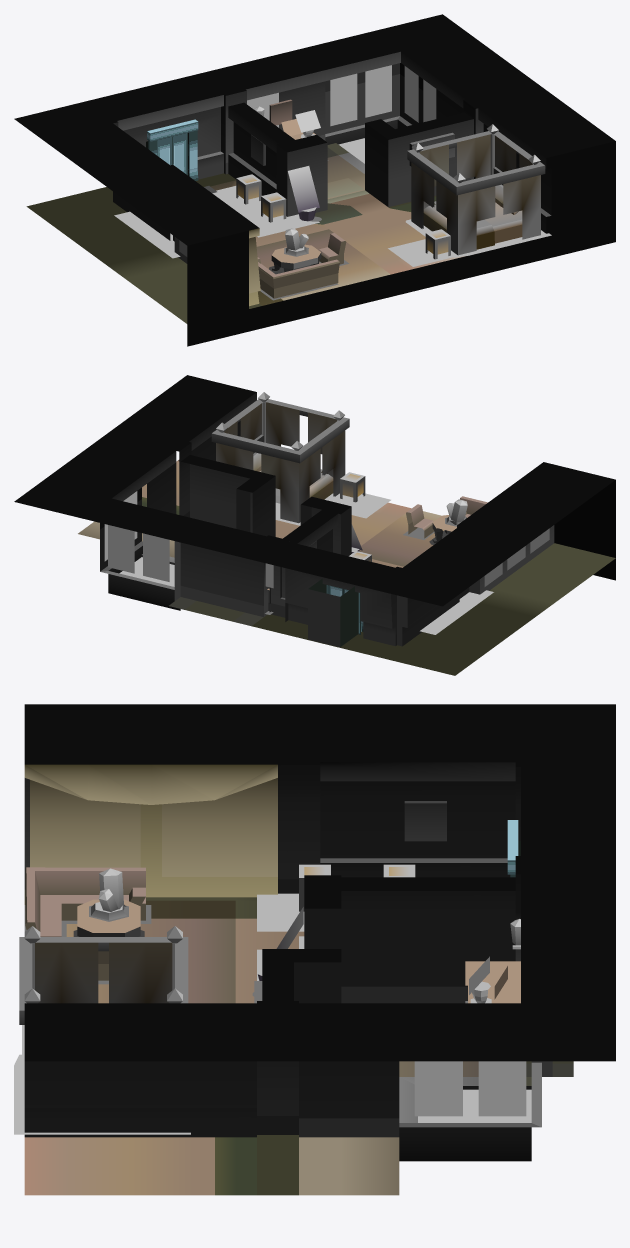
Rendered from driftveil_hotel_room_3.obj.
3 renders of one model, top to bottom at view 1: azimuth 30°, elevation 25°; view 2: azimuth 150°, elevation 25°; view 3: azimuth 270°, elevation 25°, orthographic. The views are drawn at different scales.
Bounding box in the file's own units: 416 × 97.5 × 296.
